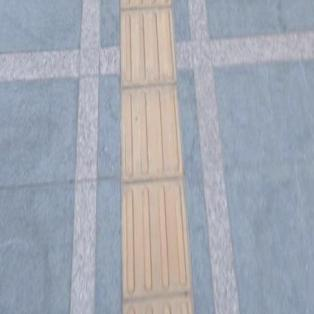Podoctatil: (119, 0, 197, 313)
